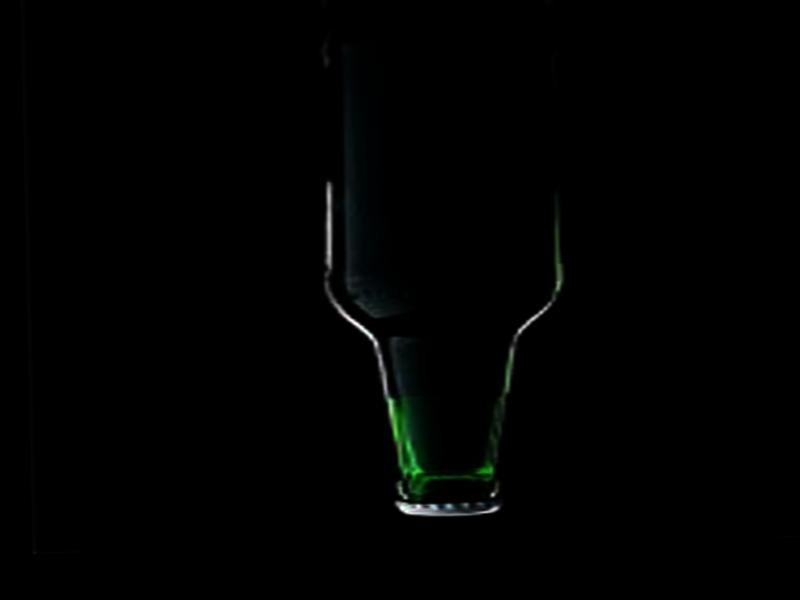Beer: (309, 26, 569, 520)
